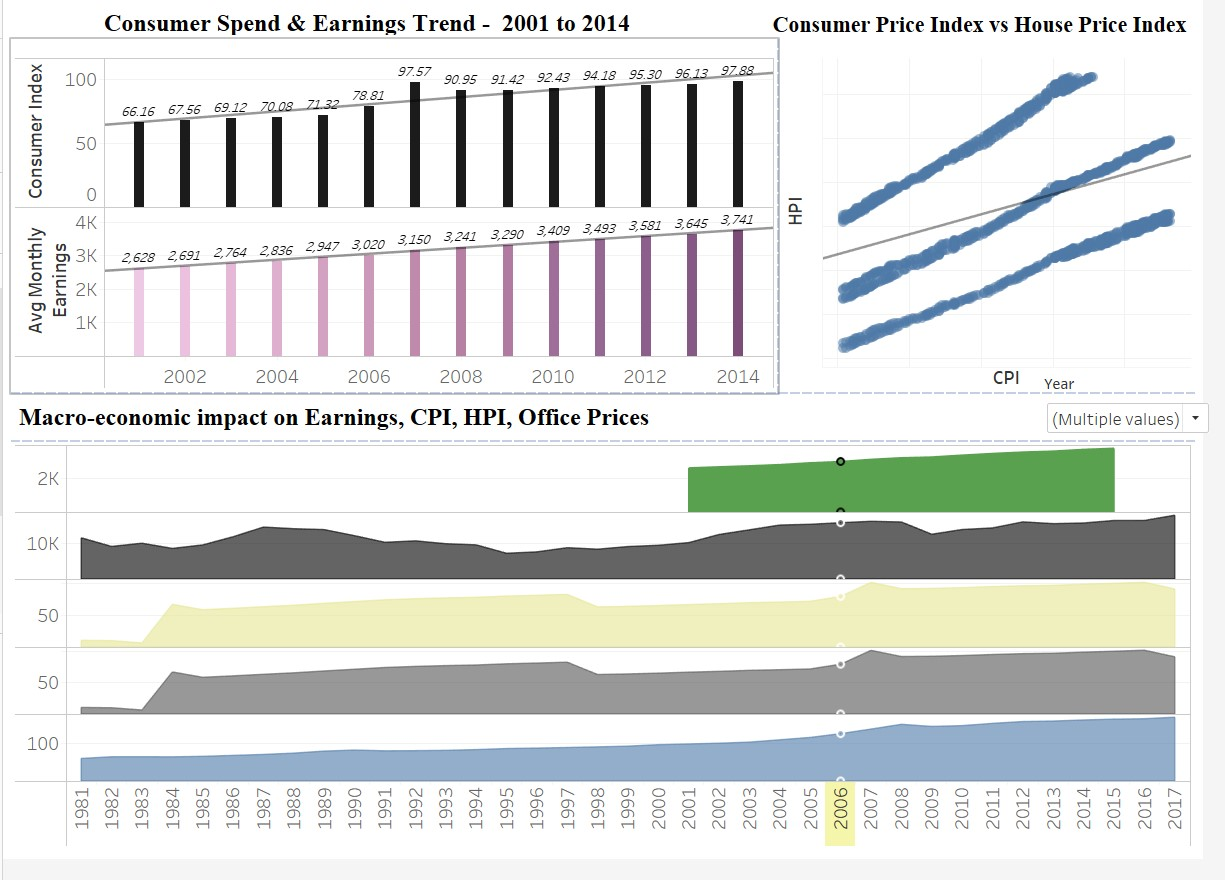

The page's visual inventory and layout, read from the dashboard file:
{"tool":"tableau","page":{"name":"Dashboard 3","canvas":[1000,1000],"units":"permille","ordinal":2},"visuals":[{"type":"text","box":[6.7,9.3,593.3,37.2]},{"type":"text","box":[600,9.3,393.4,37.2]},{"type":"worksheet","title":"2001 vs 2014 Consumer Spend vs Earnings","mark":"Bar","rows":["index_value (consumer_index.csv)","Canada (copy)_3275805815043670019"],"cols":["date (consumer_index.csv)"],"box":[6.7,46.5,639.1,411.6]},{"type":"worksheet","title":"Consumer Index vs House Price","mark":"Circle","rows":["index_value (housing_price_index.csv)"],"cols":["index_value (Sheet11)"],"box":[645.8,46.5,347.5,411.6]},{"type":"text","box":[6.7,458.1,986.7,55.8]},{"type":"worksheet","title":"Macro economic impacts","mark":"Area","rows":["Canada (copy)_3275805815043670019","VALUE","index_value (consumer_index.csv)","index_value (housing_price_index.csv)","index_value"],"cols":["date"],"box":[6.7,514,986.7,476.8]}]}

Visuals, with their boxes on the dashboard's canvas, which has no fixed pixel size, in thousandths of its width and height (x1, y1, x2, y2). These are canvas units, not pixel positions in the 1225x880 screenshot, which may show the page scaled, cropped or inside an application window:
text: box(7, 9, 600, 46)
text: box(600, 9, 993, 46)
"2001 vs 2014 Consumer Spend vs Earnings" worksheet (Bar marks): box(7, 46, 646, 458)
"Consumer Index vs House Price" worksheet (Circle marks): box(646, 46, 993, 458)
text: box(7, 458, 993, 514)
"Macro economic impacts" worksheet (Area marks): box(7, 514, 993, 991)
